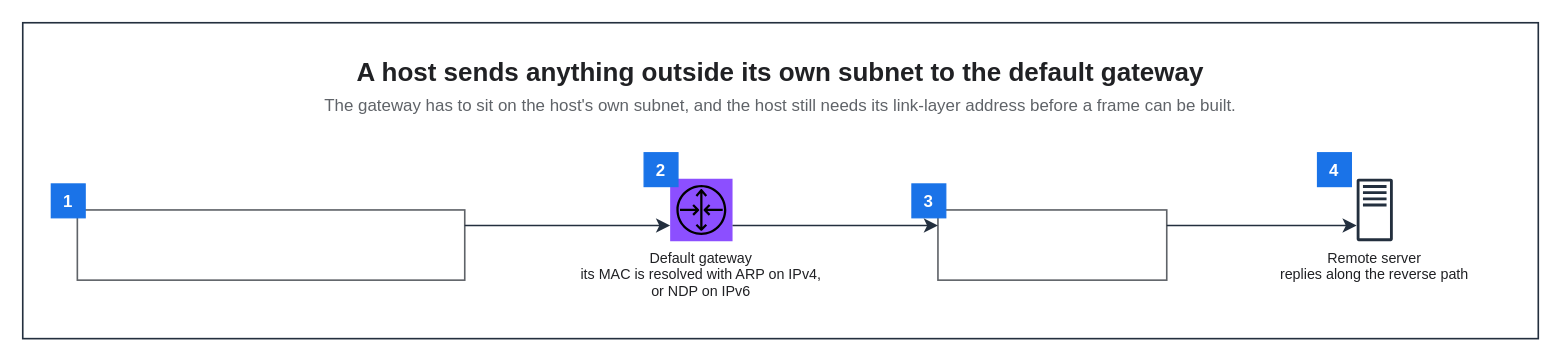
This 1563x363 diagram has some shape labels left out. The shapes that lost their labels are listed below. From the top down, each one's centre as x and y in pixels, then its label:
At point (270, 244): "Host compares the destination to its subnet mask".
At point (1052, 244): "Next network forwarded hop by hop".
